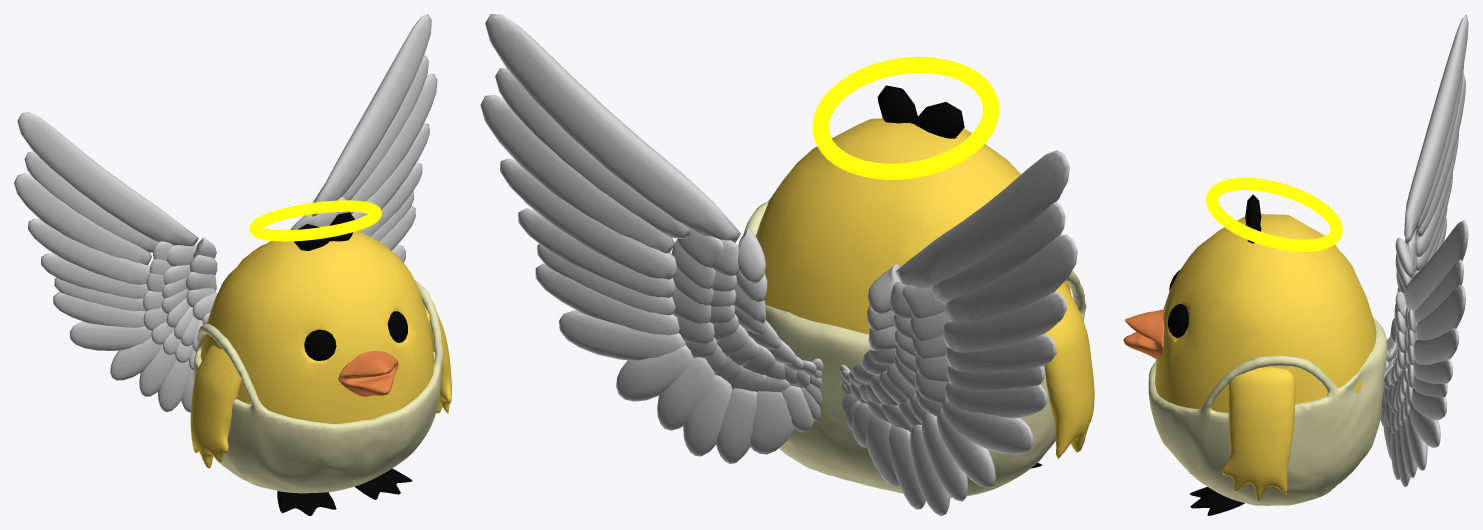
Rendered from angel.glb.
3 renders of one model, left to right at view 1: azimuth 30°, elevation 25°; view 2: azimuth 150°, elevation 25°; view 3: azimuth 270°, elevation 25°, orthographic. The views are drawn at different scales.
Visible parts, largest first — view 1: Cubo.003; view 2: Cubo.003; view 3: Cubo.003.
Part boxes in pixels (bbox=[...]): Cubo.003: bbox=[14, 14, 451, 515]; Cubo.003: bbox=[480, 14, 1094, 515]; Cubo.003: bbox=[1123, 14, 1468, 515].
Size of the model in its own units: 3.66 by 2.89 by 2.45.
